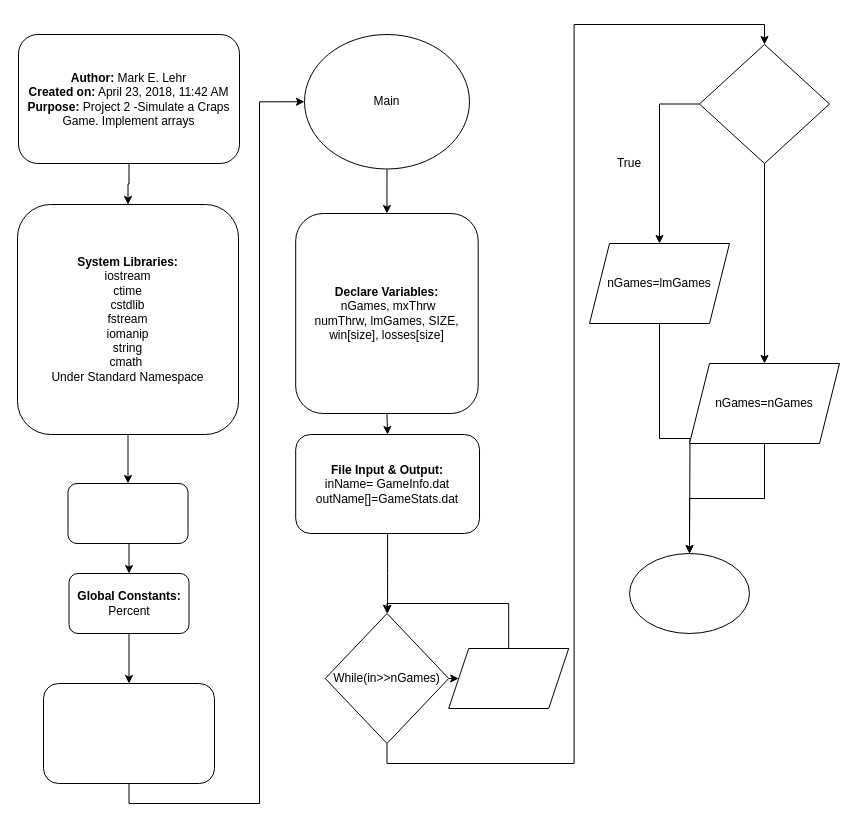
Image size: 857x829. Some labels were removed from this diagram. Each missing label, with the centre of its shape:
"Function Prototypes: rolldie, filedsp, scrnDsp, crpGame" belongs at pixel 128 733.
"in>>nGames" belongs at pixel 508 678.
"nGames>lmGames" belongs at pixel 764 104.
"Page 2" belongs at pixel 689 593.
"User Libraries: None" belongs at pixel 127 513.
